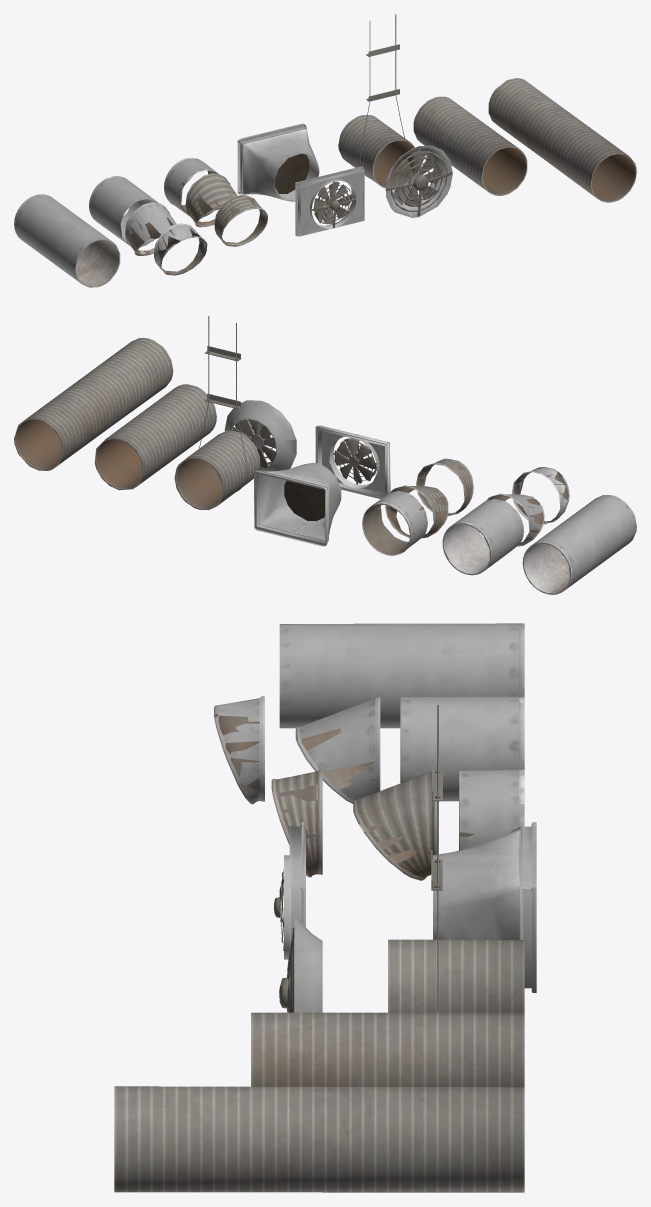
File: modular_airduct_circular_01.glb
The picture shows the model from 3 angles, top to bottom: view 1: azimuth 30°, elevation 25°; view 2: azimuth 150°, elevation 25°; view 3: azimuth 270°, elevation 25°; orthographic projection. The views are drawn at different scales.
Visible parts, largest first — view 1: modular_airduct_rectangular_vent_fan; view 2: modular_airduct_rectangular_vent_fan; view 3: modular_airduct_rectangular_vent_fan.
Boxes of the visible parts, box(x1,y1,x2,y2) form: modular_airduct_rectangular_vent_fan: box(14, 14, 636, 287); modular_airduct_rectangular_vent_fan: box(14, 316, 636, 594); modular_airduct_rectangular_vent_fan: box(114, 623, 536, 1192).
Size of the model in its own units: 4.17 by 1.32 by 1.46.
1 material, 1 textured.
